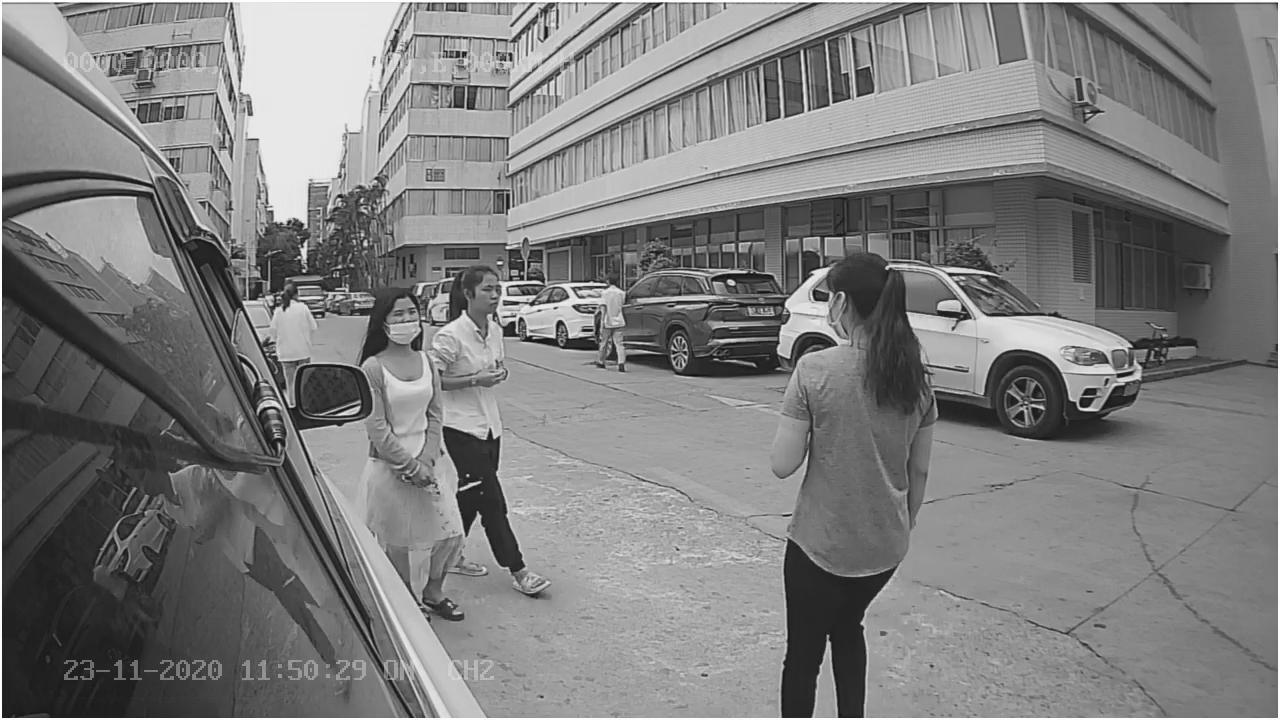person: (765, 250, 935, 528), (427, 240, 521, 388)
